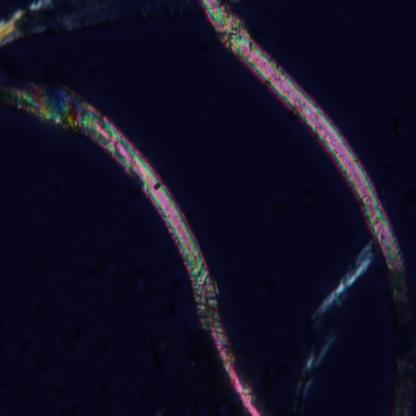Microfibre: (0, 81, 257, 414), (199, 0, 416, 317)
